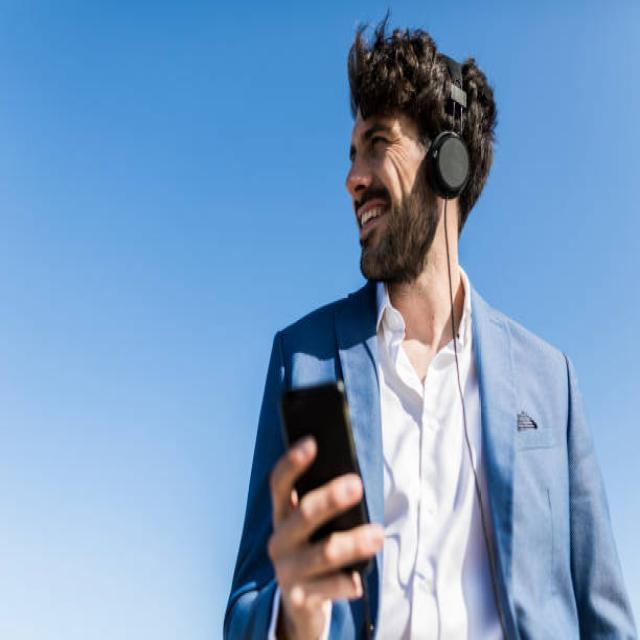Headphone: (426, 52, 472, 202)
